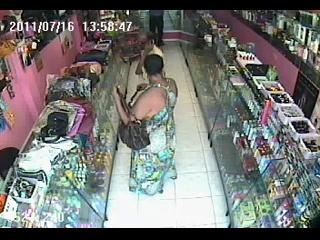Normal: (115, 56, 178, 196), (118, 98, 151, 152), (149, 10, 165, 46), (75, 50, 108, 66)
